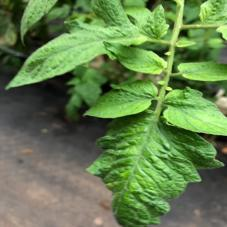Healthy: (85, 111, 227, 227), (5, 19, 141, 90), (163, 89, 227, 136), (84, 79, 159, 118), (106, 45, 168, 75), (179, 61, 227, 82), (144, 1, 169, 39)
